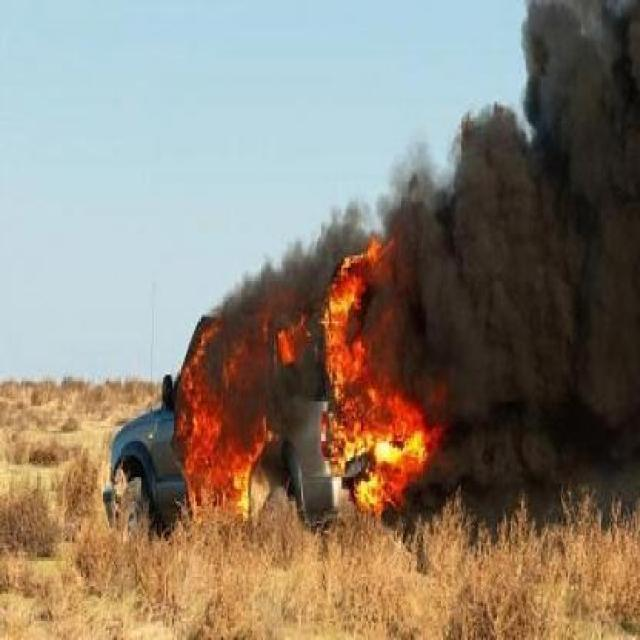Fire: (172, 232, 438, 541)
Smoke: (381, 2, 640, 500)
